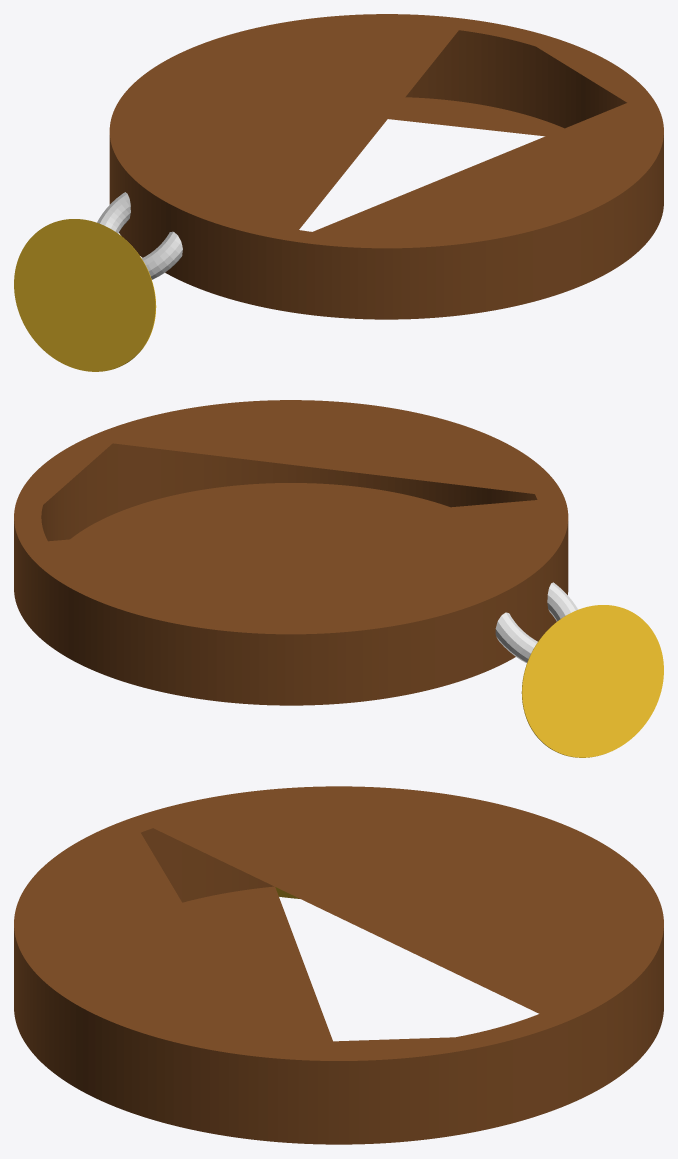
Rendered from tCollar.fbx.
3 views of the same model, one above another, from view 1: azimuth 30°, elevation 25°; view 2: azimuth 150°, elevation 25°; view 3: azimuth 270°, elevation 25° (orthographic). The views are drawn at different scales.
Visible parts, largest first — view 1: Cylinder.001; view 2: Cylinder.001; view 3: Cylinder.001.
Part boxes in pixels (bbox=[...]): Cylinder.001: bbox=[14, 14, 663, 371]; Cylinder.001: bbox=[14, 400, 663, 757]; Cylinder.001: bbox=[14, 786, 663, 1144].
Size of the model in its own units: 240 by 57.25 by 200.
